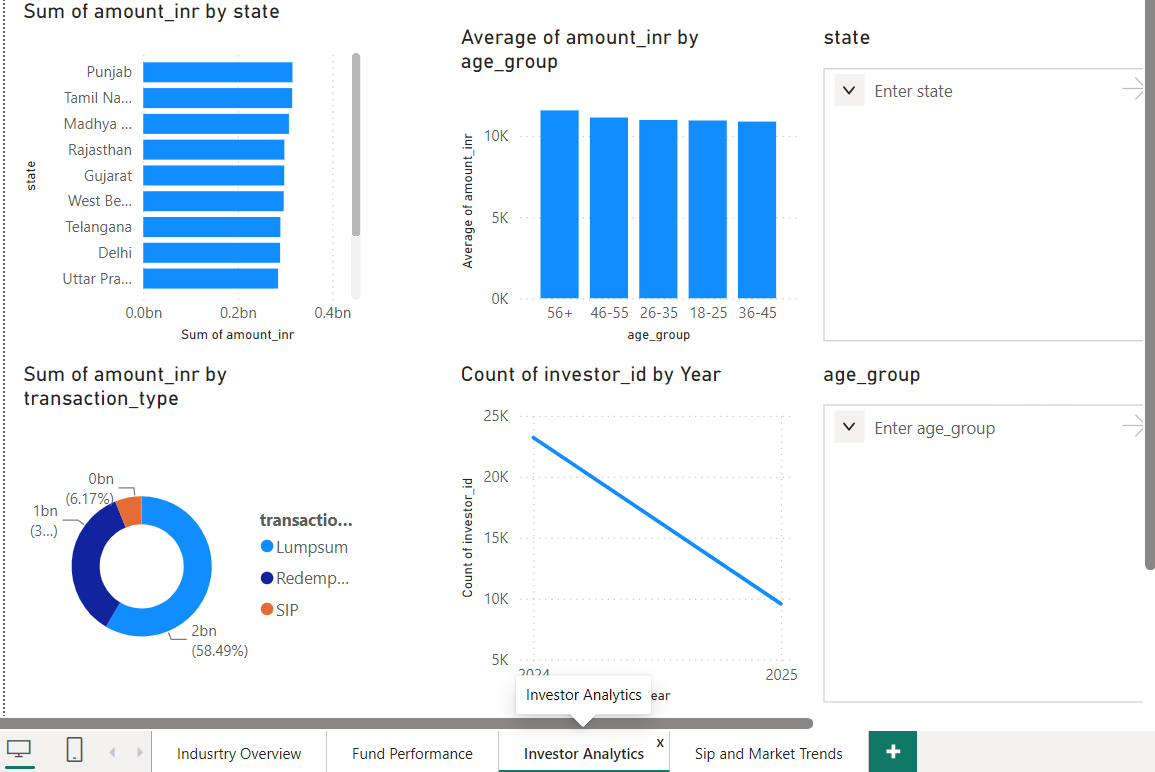

What the dashboard file says about the page in this screenshot:
{"tool":"powerbi","page":{"name":"Investor Analytics","canvas":[1280,720],"ordinal":2},"visuals":[{"type":"clusteredBarChart","fields":{"Category":["08_investor_transactions.state"],"Y":["Sum(08_investor_transactions.amount_inr)"]},"box":[10,0,280,280],"z":0},{"type":"donutChart","fields":{"Category":["08_investor_transactions.transaction_type"],"Y":["Sum(08_investor_transactions.amount_inr)"]},"box":[10,290,280,280],"z":1},{"type":"clusteredColumnChart","fields":{"Category":["08_investor_transactions.age_group"],"Y":["Avg(08_investor_transactions.amount_inr)"]},"box":[359.5,20.6,279.9,259.3],"z":2},{"type":"lineChart","fields":{"Category":["08_investor_transactions.transaction_date.Variation.Date Hierarchy.Year","08_investor_transactions.transaction_date.Variation.Date Hierarchy.Quarter","08_investor_transactions.transaction_date.Variation.Date Hierarchy.Month","08_investor_transactions.transaction_date.Variation.Date Hierarchy.Day"],"Y":["CountNonNull(08_investor_transactions.investor_id)"]},"box":[359.5,289.5,279.9,279.9],"z":3},{"type":"textSlicer","fields":{"Values":["08_investor_transactions.age_group"]},"box":[650.4,289.5,279.9,279.9],"z":4},{"type":"textSlicer","fields":{"Values":["08_investor_transactions.city_tier"]},"box":[1000.3,20.6,279.9,259.3],"z":5},{"type":"textSlicer","fields":{"Values":["08_investor_transactions.state"]},"box":[650,21,280,259],"z":6}]}

Visuals, with their boxes on the page's 1280x720 design canvas (x1, y1, x2, y2). These are canvas units, not pixel positions in the 1155x772 screenshot, which may show the page scaled, cropped or inside an application window:
clusteredBarChart - 08_investor_transactions.state x Sum(08_investor_transactions.amount_inr): [x1=10, y1=0, x2=290, y2=280]
donutChart - 08_investor_transactions.transaction_type x Sum(08_investor_transactions.amount_inr): [x1=10, y1=290, x2=290, y2=570]
clusteredColumnChart - 08_investor_transactions.age_group x Avg(08_investor_transactions.amount_inr): [x1=360, y1=21, x2=639, y2=280]
lineChart - 08_investor_transactions.transaction_date.Variation.Date Hierarchy.Year x 08_investor_transactions.transaction_date.Variation.Date Hierarchy.Quarter: [x1=360, y1=290, x2=639, y2=569]
textSlicer - 08_investor_transactions.age_group: [x1=650, y1=290, x2=930, y2=569]
textSlicer - 08_investor_transactions.city_tier: [x1=1000, y1=21, x2=1280, y2=280]
textSlicer - 08_investor_transactions.state: [x1=650, y1=21, x2=930, y2=280]
